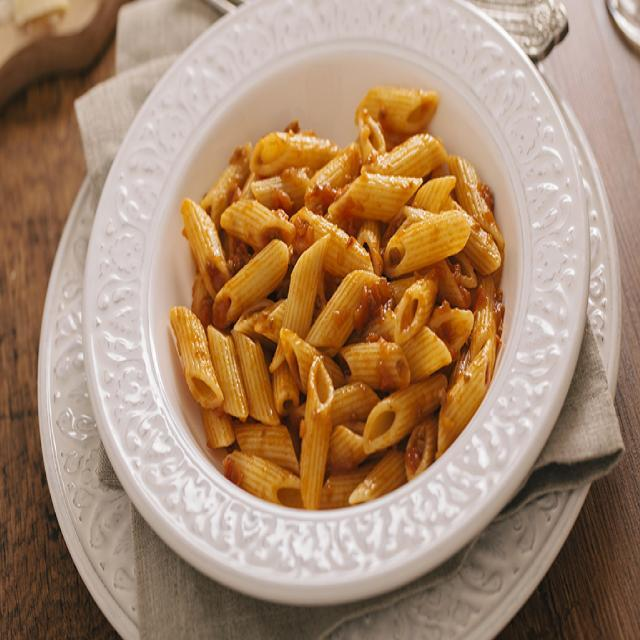Pasta al ragu: (147, 49, 527, 511)
